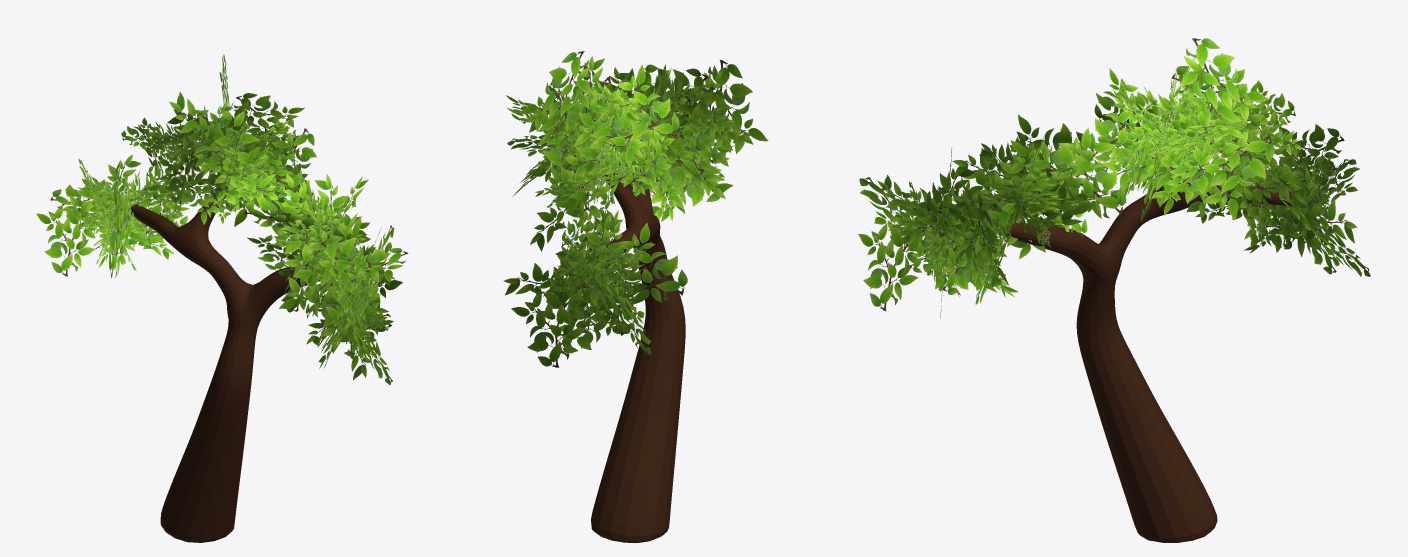
The model's file is smalltree.fbx.
The picture shows the model from 3 angles, left to right: view 1: azimuth 30°, elevation 25°; view 2: azimuth 150°, elevation 25°; view 3: azimuth 270°, elevation 25°; orthographic projection. The views are drawn at different scales.
Visible parts, largest first — view 1: 63-636871_green-branch-transparent-png-clip-art-image-green., Plane.002; view 2: 63-636871_green-branch-transparent-png-clip-art-image-green., Plane.002; view 3: 63-636871_green-branch-transparent-png-clip-art-image-green., Plane.002.
Part boxes in pixels (box(x1,y1,x2,y2)): 63-636871_green-branch-transparent-png-clip-art-image-green.: box(36, 54, 408, 384); Plane.002: box(128, 186, 321, 542); 63-636871_green-branch-transparent-png-clip-art-image-green.: box(503, 51, 768, 367); Plane.002: box(591, 170, 685, 542); 63-636871_green-branch-transparent-png-clip-art-image-green.: box(858, 38, 1370, 322); Plane.002: box(1007, 178, 1293, 542).
Size of the model in its own units: 162 by 270 by 261.
